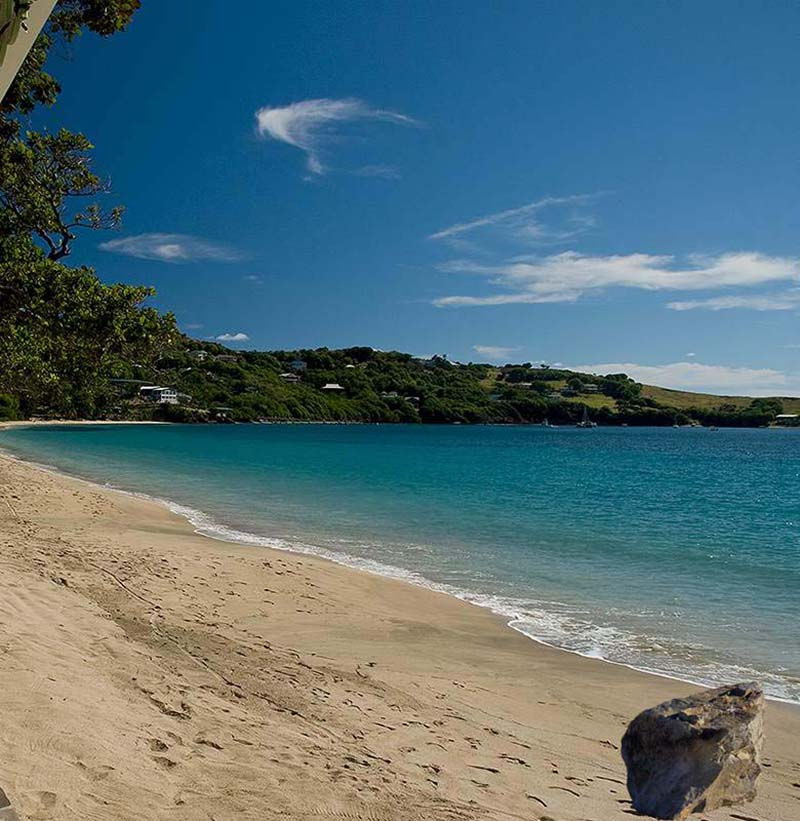Rocks: (608, 672, 779, 821)
